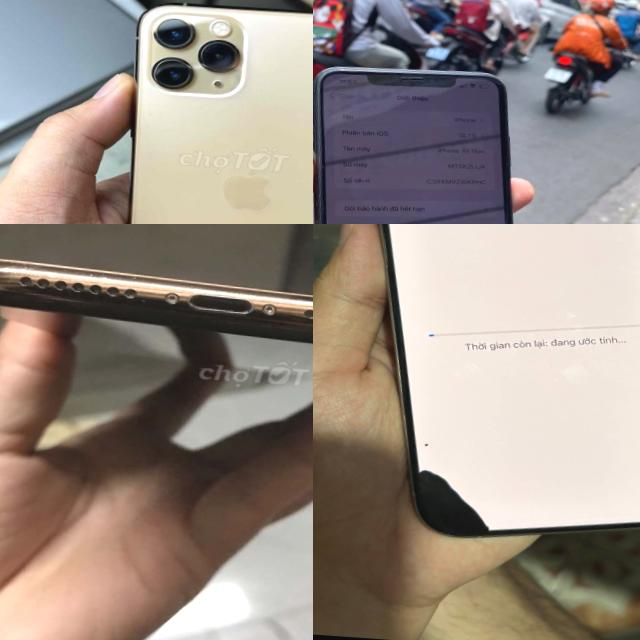gen_11: (100, 0, 313, 224), (0, 249, 313, 371)
gen_14: (339, 224, 640, 553)
gen_x_xs: (313, 59, 540, 224)
scratch: (0, 255, 313, 348)
screen_defect: (413, 466, 493, 536), (316, 140, 401, 182), (402, 140, 452, 168), (454, 127, 504, 154), (484, 200, 511, 220), (460, 203, 484, 224), (432, 206, 459, 224), (404, 212, 432, 224), (362, 216, 401, 224), (422, 440, 429, 448)
